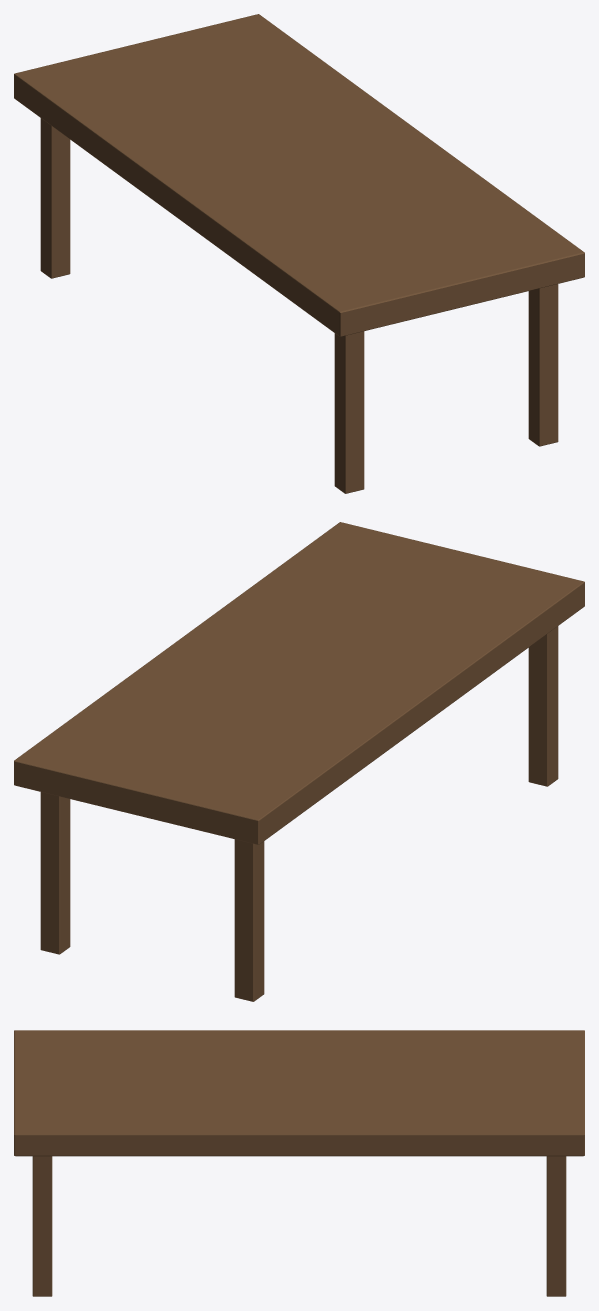
Rendered from table_1.fbx.
3 renders of one model, top to bottom at view 1: azimuth 30°, elevation 25°; view 2: azimuth 150°, elevation 25°; view 3: azimuth 270°, elevation 25°, orthographic. The views are drawn at different scales.
Visible parts, largest first — view 1: table_1_export; view 2: table_1_export; view 3: table_1_export.
Boxes of the visible parts, x1,y1,x2,y2 form: table_1_export: (14,14,584,493); table_1_export: (14,522,584,1001); table_1_export: (14,1030,584,1296).
Size of the model in its own units: 166 by 125 by 382.
